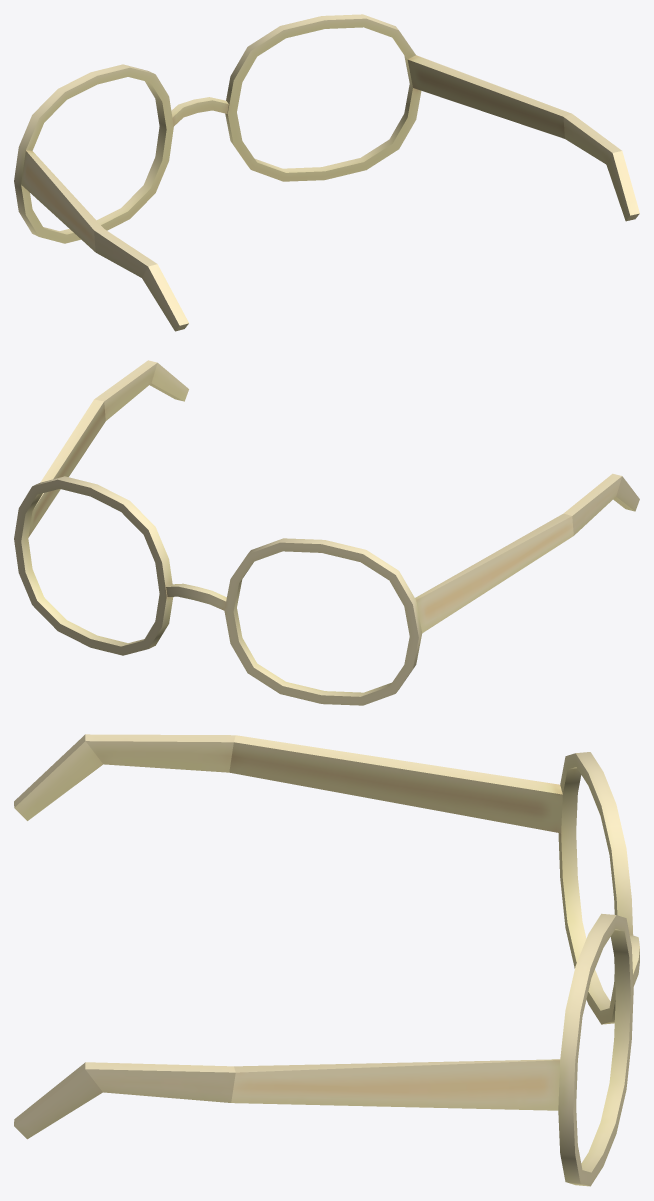
Rendered from IG_FackMask_Football_Glass.fbx.
The picture shows the model from 3 angles, top to bottom: view 1: azimuth 30°, elevation 25°; view 2: azimuth 150°, elevation 25°; view 3: azimuth 270°, elevation 25°; orthographic projection. The views are drawn at different scales.
Visible parts, largest first — view 1: FootballDuo_1_Glasses; view 2: FootballDuo_1_Glasses; view 3: FootballDuo_1_Glasses.
Boxes of the visible parts, x1,y1,x2,y2 form: FootballDuo_1_Glasses: (14, 14, 639, 331); FootballDuo_1_Glasses: (14, 360, 639, 705); FootballDuo_1_Glasses: (14, 734, 639, 1186).
Bounding box in the file's own units: 0.4991 × 0.1595 × 0.3912.
